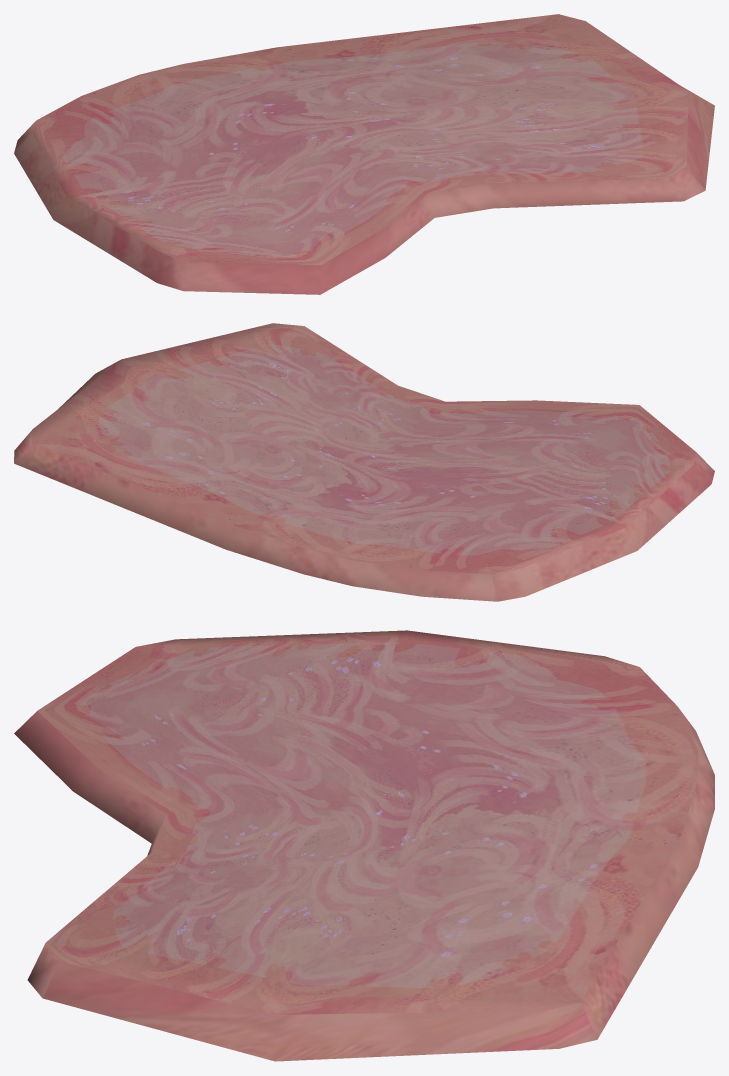
The model's file is entity161224.gltf.
3 renders of one model, top to bottom at view 1: azimuth 30°, elevation 25°; view 2: azimuth 150°, elevation 25°; view 3: azimuth 270°, elevation 25°, orthographic. The views are drawn at different scales.
Visible parts, largest first — view 1: node_Path_047; view 2: node_Path_047; view 3: node_Path_047.
Part boxes in pixels (box(x1,y1,x2,y2)): node_Path_047: box(14, 14, 714, 294); node_Path_047: box(14, 323, 714, 601); node_Path_047: box(14, 630, 714, 1061).
Size of what is drawn, in the model's own units: 6.33 by 0.2079 by 4.57.
